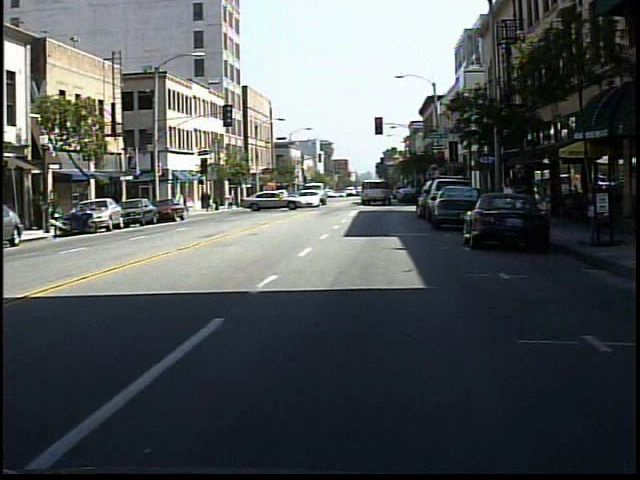person: (510, 157, 536, 236), (501, 173, 519, 231)
